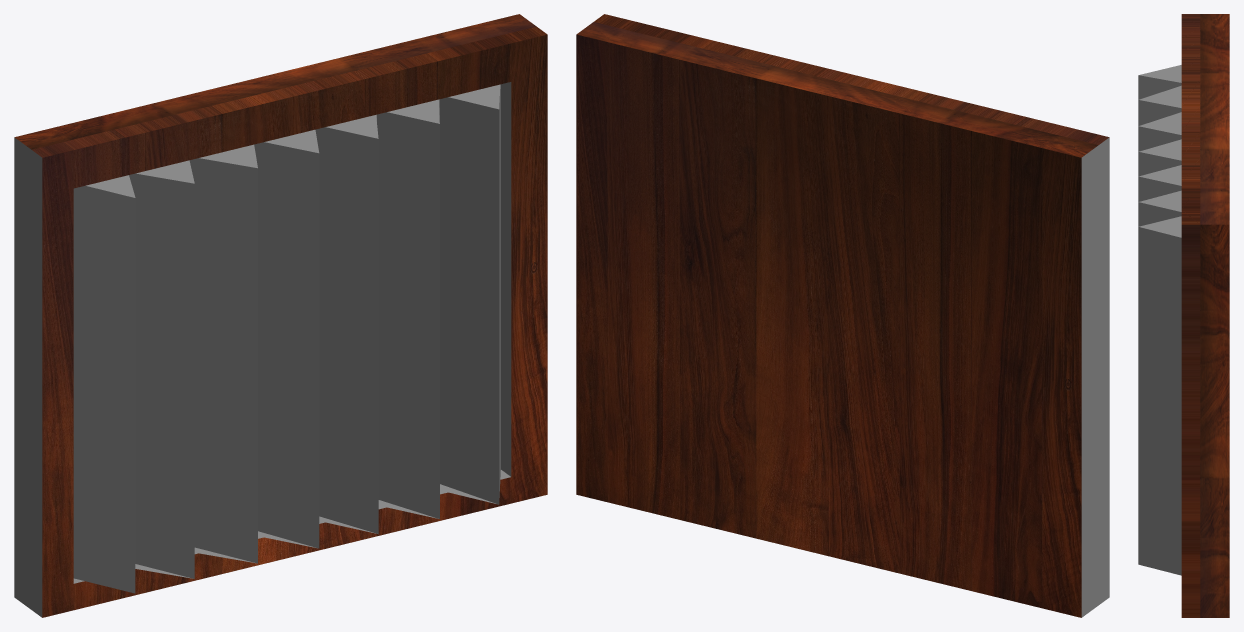
The model's file is puzzle.FBX.
3 renders of one model, left to right at view 1: azimuth 30°, elevation 25°; view 2: azimuth 150°, elevation 25°; view 3: azimuth 270°, elevation 25°, orthographic. The views are drawn at different scales.
Parts seen in each view (by area): view 1: Box001; view 2: Box001; view 3: Box001.
Boxes of the visible parts, x1,y1,x2,y2 form: Box001: (14, 14, 547, 617); Box001: (576, 14, 1109, 617); Box001: (1138, 14, 1229, 617).
Bounding box in the file's own units: 80.68 × 70.24 × 14.75.
